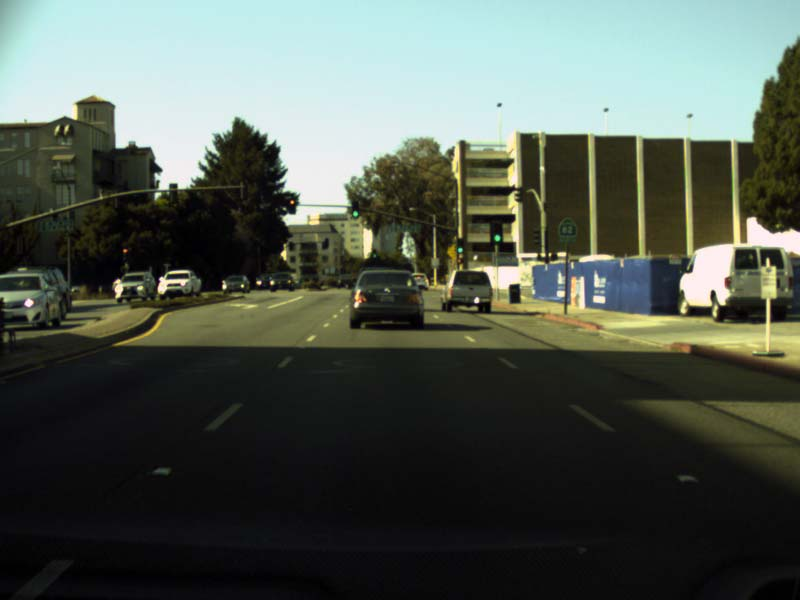Green: (491, 222, 503, 242), (352, 202, 359, 217), (457, 239, 464, 253), (372, 249, 376, 257)
Red: (122, 246, 129, 259), (289, 199, 295, 213)
